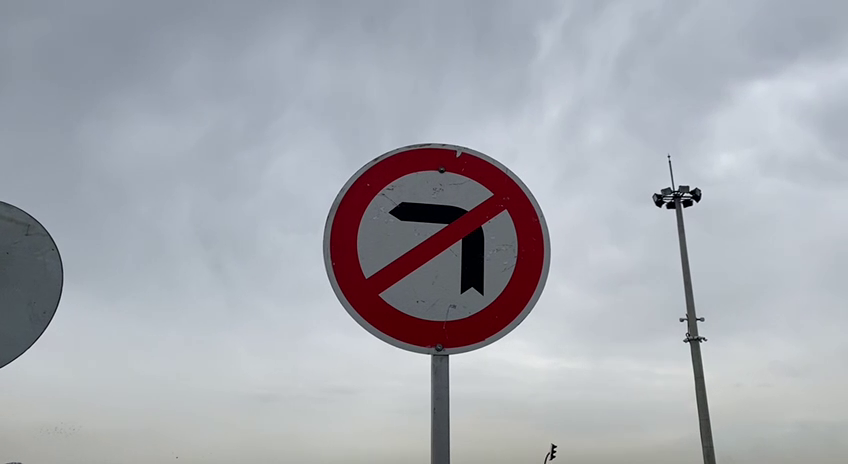noTurnLeft: (315, 136, 556, 359)
